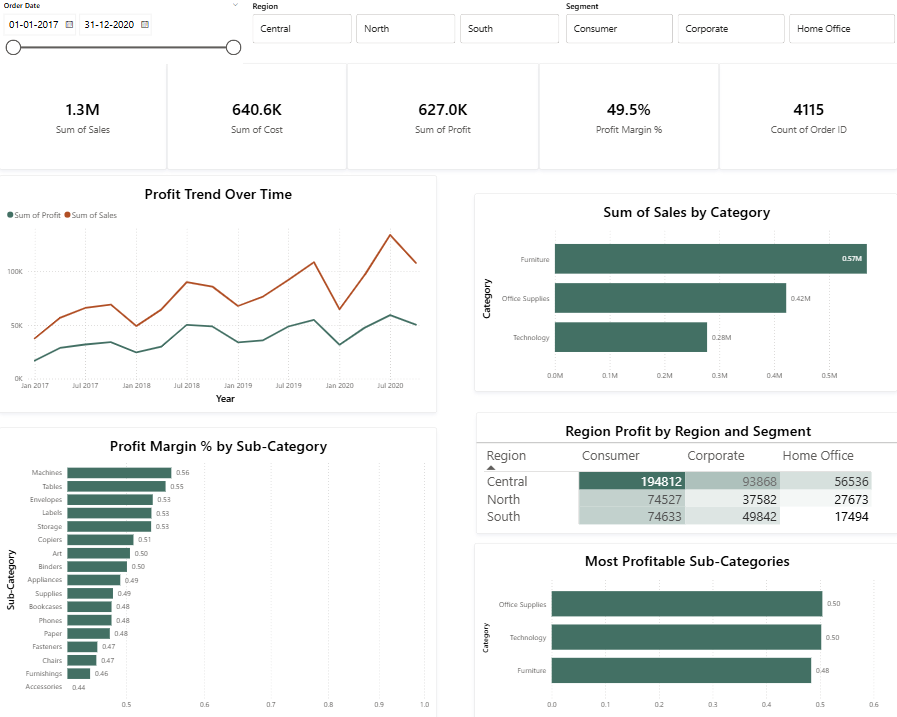

This screenshot's page, from the dashboard's own definition file:
{"tool":"powerbi","page":{"name":"Dashboard","canvas":[1500,1200],"ordinal":0},"visuals":[{"type":"card","fields":{"Values":["Sum(List of Orders.Sales)"]},"box":[0,105,280,177.5],"z":0},{"type":"card","fields":{"Values":["Sum(List of Orders.Cost)"]},"box":[280,105,300,177.5],"z":1000},{"type":"card","fields":{"Values":["Sum(List of Orders.Profit)"]},"box":[580,105,320,177.5],"z":2000},{"type":"lineChart","title":"Profit Trend Over Time","fields":{"Y":["Sum(List of Orders.Profit)","Sum(List of Orders.Sales)"],"Category":["List of Orders.Order Date.Variation.Date Hierarchy.Year","List of Orders.Order Date.Variation.Date Hierarchy.Quarter"]},"box":[0,292.5,730,395],"z":3000},{"type":"clusteredBarChart","fields":{"Category":["List of Orders.Sub-Category"],"Y":["List of Orders.Profit Margin %"]},"box":[0,712.5,730,487.5],"z":4000},{"type":"pivotTable","title":"Region Profit by Region and Segment","fields":{"Rows":["List of Orders.Region"],"Columns":["List of Orders.Segment"],"Values":["Sum(List of Orders.Profit)"]},"box":[794,688,706,202],"z":5000},{"type":"card","fields":{"Values":["CountNonNull(List of Orders.Order ID)"]},"box":[1200,105,300,177.5],"z":6000},{"type":"card","fields":{"Values":["List of Orders.Profit Margin %"]},"box":[900,105,300,177.5],"z":7000},{"type":"clusteredBarChart","fields":{"Category":["List of Orders.Category"],"Y":["Sum(List of Orders.Sales)"]},"box":[793.3,323.3,706.7,330],"z":8000},{"type":"clusteredBarChart","title":"Most Profitable Sub-Categories","fields":{"Y":["List of Orders.Profit Margin %"],"Category":["List of Orders.Category"]},"box":[792.5,905,707.5,295],"z":9000},{"type":"advancedSlicerVisual","fields":{"Values":["List of Orders.Region"]},"box":[417.5,0,522.5,77.5],"z":10000},{"type":"advancedSlicerVisual","fields":{"Values":["List of Orders.Segment"]},"box":[940,0,560,77.5],"z":11000},{"type":"slicer","fields":{"Values":["List of Orders.Order Date"]},"box":[0,0,406.7,105],"z":11001}]}

Visuals, with their boxes in screenshot pixels (x1, y1, x2, y2), scaled from the page's 1500x1200 canvas onto the 897x717 screenshot:
card - Sum(List of Orders.Sales): rect(0, 63, 167, 169)
card - Sum(List of Orders.Cost): rect(167, 63, 347, 169)
card - Sum(List of Orders.Profit): rect(347, 63, 538, 169)
"Profit Trend Over Time" lineChart: rect(0, 175, 437, 411)
clusteredBarChart - List of Orders.Sub-Category x List of Orders.Profit Margin %: rect(0, 426, 437, 716)
"Region Profit by Region and Segment" pivotTable: rect(475, 411, 896, 532)
card - CountNonNull(List of Orders.Order ID): rect(718, 63, 896, 169)
card - List of Orders.Profit Margin %: rect(538, 63, 718, 169)
clusteredBarChart - List of Orders.Category x Sum(List of Orders.Sales): rect(474, 193, 896, 390)
"Most Profitable Sub-Categories" clusteredBarChart: rect(474, 541, 896, 716)
advancedSlicerVisual - List of Orders.Region: rect(250, 0, 562, 46)
advancedSlicerVisual - List of Orders.Segment: rect(562, 0, 896, 46)
slicer - List of Orders.Order Date: rect(0, 0, 243, 63)
